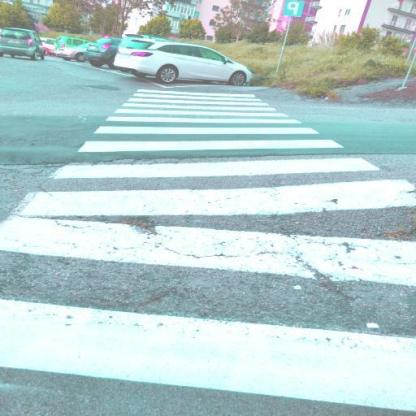crosswalk: (49, 137, 387, 183), (109, 100, 298, 118)
